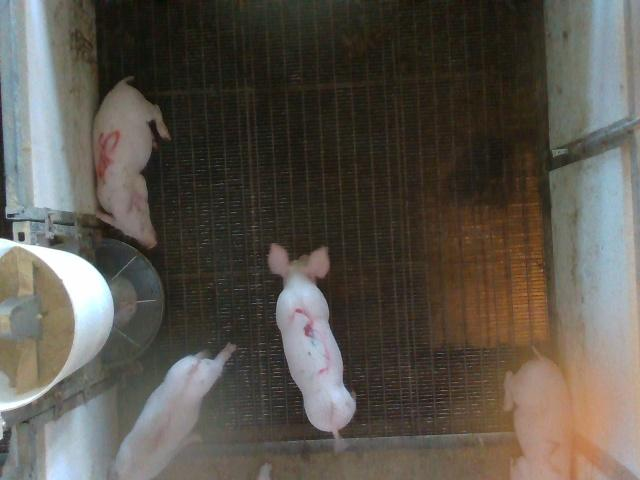pig-1: (110, 344, 236, 478)
pig-2: (505, 355, 571, 478)
pig-3: (268, 244, 356, 448)
pig-5: (94, 76, 171, 248)
